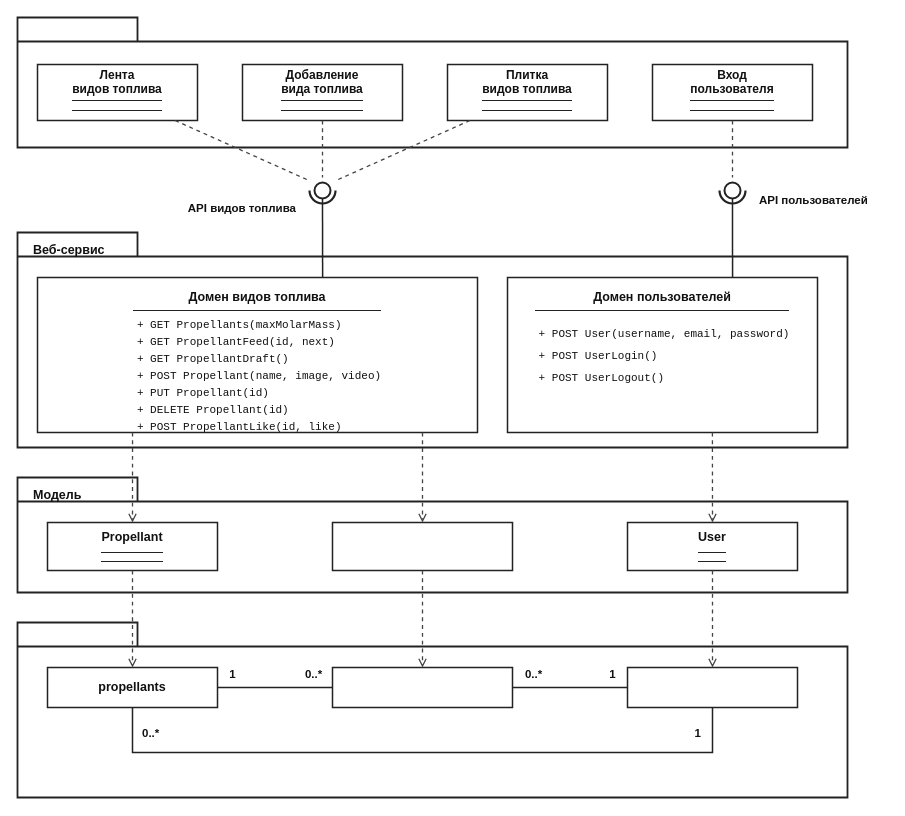
This 905x816 diagram has some shape labels left out. The box of each missing label's shape, as (x1, y1, x2, y2) in pixels:
propellant_likes: (331, 666, 513, 708)
PropellantLike: (331, 521, 513, 571)
users: (626, 666, 798, 708)
База данных: (16, 621, 848, 798)
Фронтенд: (16, 16, 848, 148)
